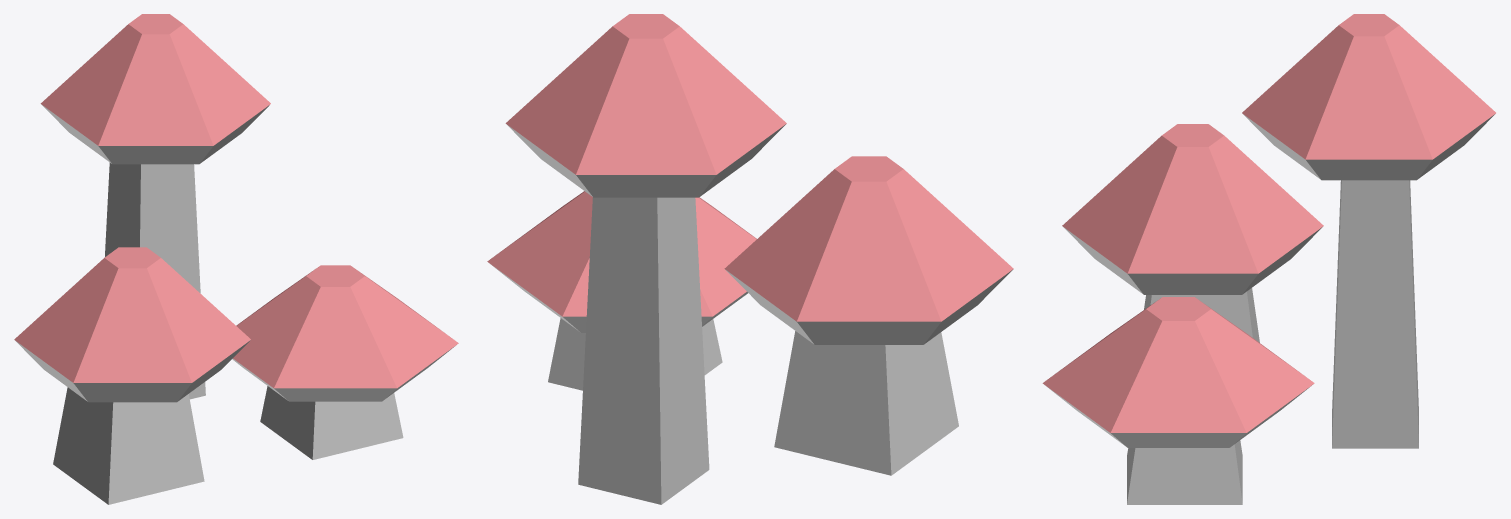
The model's file is mushroom-cluster.glb.
The picture shows the model from 3 angles, left to right: view 1: azimuth 30°, elevation 25°; view 2: azimuth 150°, elevation 25°; view 3: azimuth 270°, elevation 25°; orthographic projection. The views are drawn at different scales.
Parts seen in each view (by area): view 1: mushroom-cluster; view 2: mushroom-cluster; view 3: mushroom-cluster.
Boxes of the visible parts, <box> form: mushroom-cluster: <box>14,14,458,504</box>; mushroom-cluster: <box>487,14,1013,504</box>; mushroom-cluster: <box>1042,14,1495,504</box>.
Size of the model in its own units: 0.5167 by 0.48 by 0.4871.
